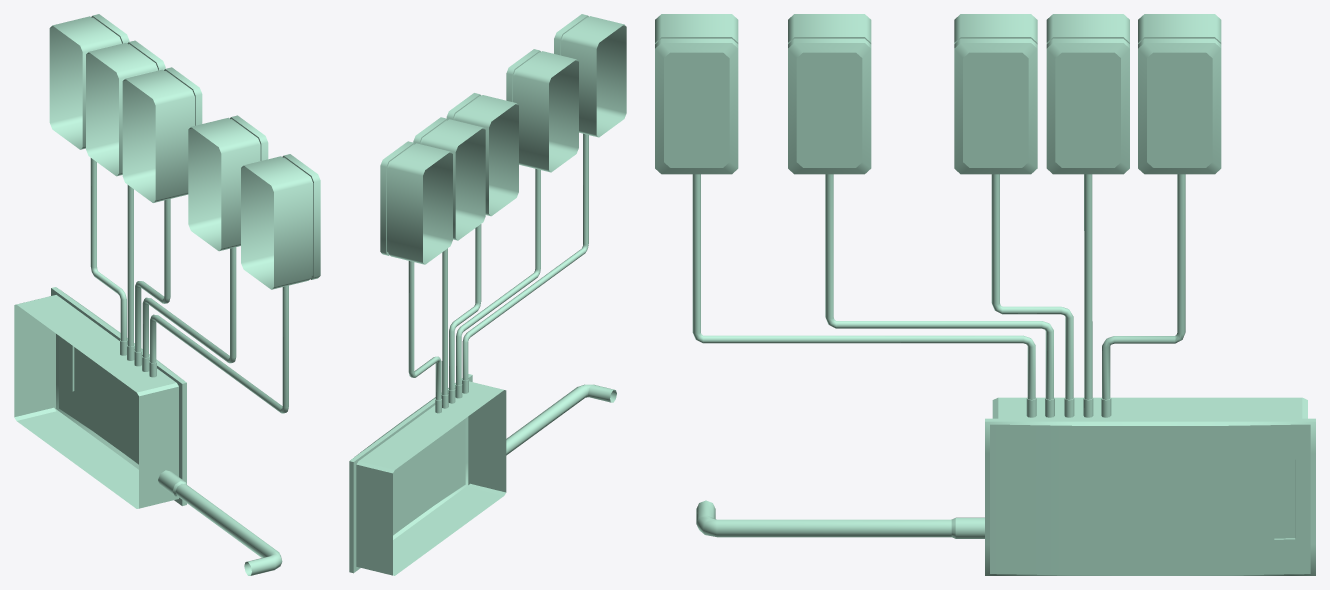
File: fuse1.fbx
The picture shows the model from 3 angles, left to right: view 1: azimuth 30°, elevation 25°; view 2: azimuth 150°, elevation 25°; view 3: azimuth 270°, elevation 25°; orthographic projection. The views are drawn at different scales.
Visible parts, largest first — view 1: 128_fuse_set05.obj; view 2: 128_fuse_set05.obj; view 3: 128_fuse_set05.obj.
Boxes of the visible parts, box(x1,y1,x2,y2) form: 128_fuse_set05.obj: box(14, 14, 320, 575); 128_fuse_set05.obj: box(349, 14, 626, 575); 128_fuse_set05.obj: box(655, 14, 1315, 575).
Bounding box in the file's own units: 18.7 × 137 × 154.
